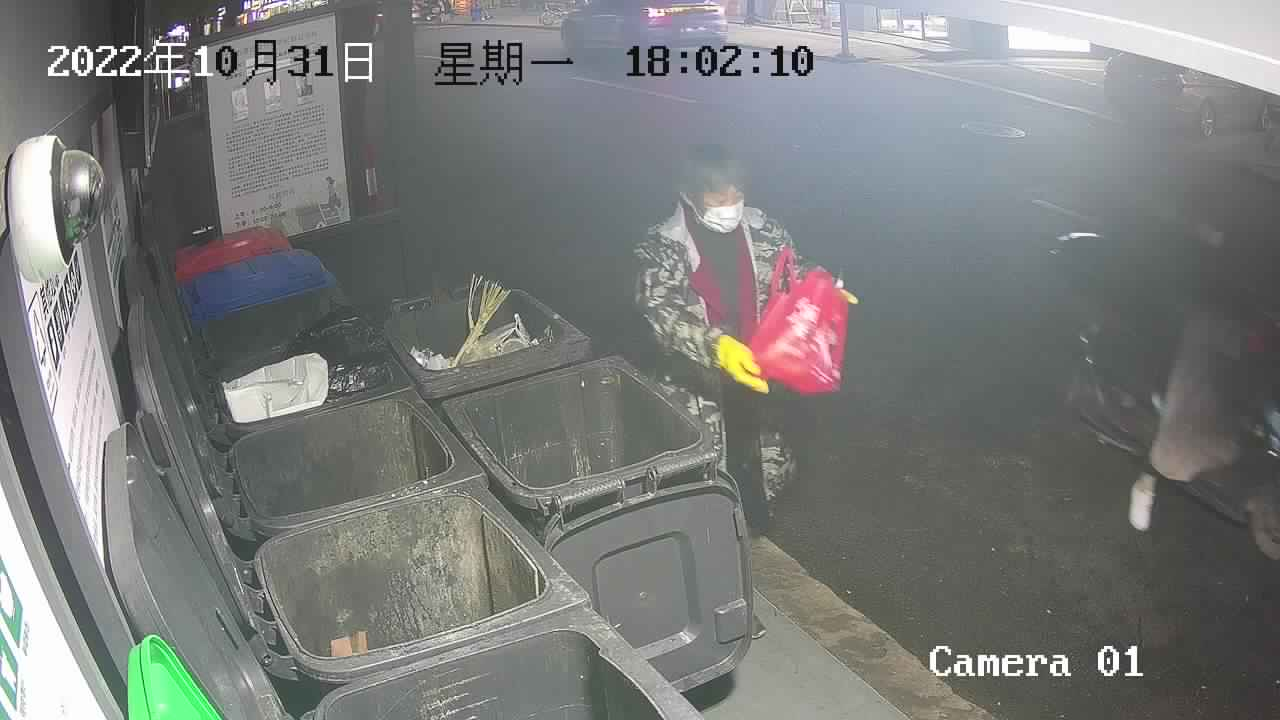garbage-bag: (747, 242, 851, 400)
person: (632, 141, 859, 642)
